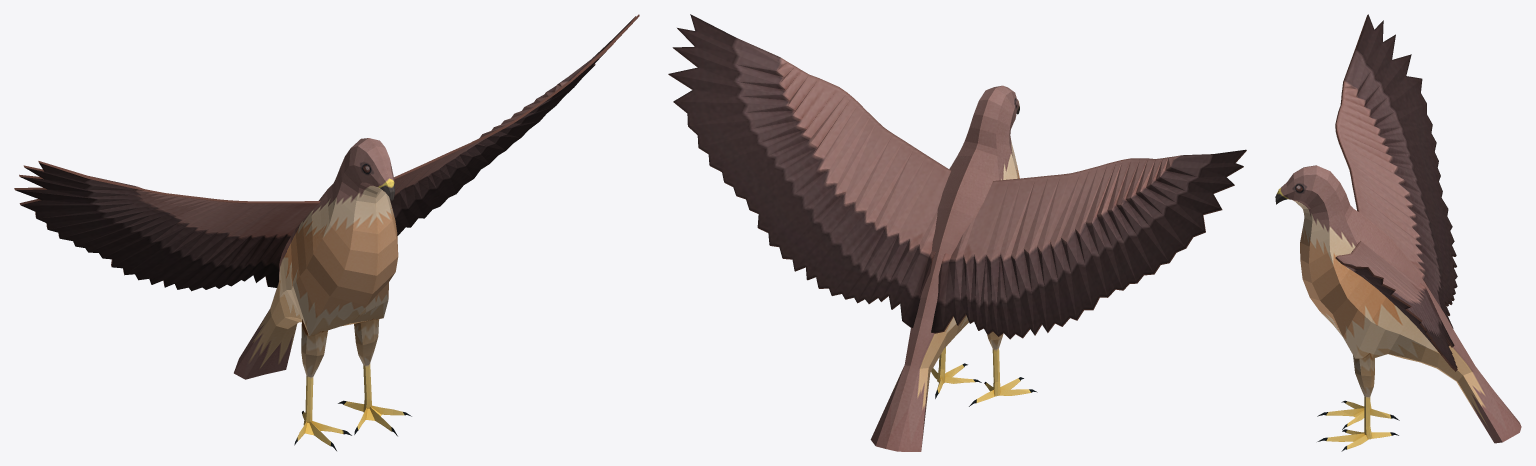
File: Hawk_01.FBX
3 views of the same model, side by side, from view 1: azimuth 30°, elevation 25°; view 2: azimuth 150°, elevation 25°; view 3: azimuth 270°, elevation 25° (orthographic). The views are drawn at different scales.
Visible parts, largest first — view 1: Hawk_Right_Wing_01, Hawk_01, Hawk_Left_Wing_01, Hawk_Left_Leg_01, Hawk_Right_Leg_01; view 2: Hawk_Left_Wing_01, Hawk_Right_Wing_01, Hawk_01, Hawk_Right_Leg_01, Hawk_Left_Leg_01; view 3: Hawk_Right_Wing_01, Hawk_01, Hawk_Left_Wing_01, Hawk_Left_Leg_01, Hawk_Right_Leg_01.
Boxes of the visible parts, x1=… form: Hawk_Right_Wing_01: x1=14, y1=161, x2=320, y2=291; Hawk_01: x1=234, y1=138, x2=398, y2=379; Hawk_Left_Wing_01: x1=389, y1=14, x2=639, y2=235; Hawk_Left_Leg_01: x1=338, y1=318, x2=411, y2=436; Hawk_Right_Leg_01: x1=294, y1=319, x2=351, y2=450; Hawk_Left_Wing_01: x1=668, y1=14, x2=950, y2=327; Hawk_Right_Wing_01: x1=931, y1=149, x2=1246, y2=339; Hawk_01: x1=870, y1=85, x2=1019, y2=451; Hawk_Right_Leg_01: x1=969, y1=332, x2=1037, y2=406; Hawk_Left_Leg_01: x1=931, y1=347, x2=981, y2=398; Hawk_Right_Wing_01: x1=1335, y1=14, x2=1457, y2=328; Hawk_01: x1=1275, y1=165, x2=1521, y2=443; Hawk_Left_Wing_01: x1=1335, y1=241, x2=1457, y2=371; Hawk_Left_Leg_01: x1=1317, y1=353, x2=1398, y2=451; Hawk_Right_Leg_01: x1=1317, y1=400, x2=1399, y2=429.
Size of the model in its own units: 45.39 by 24.19 by 18.31.
